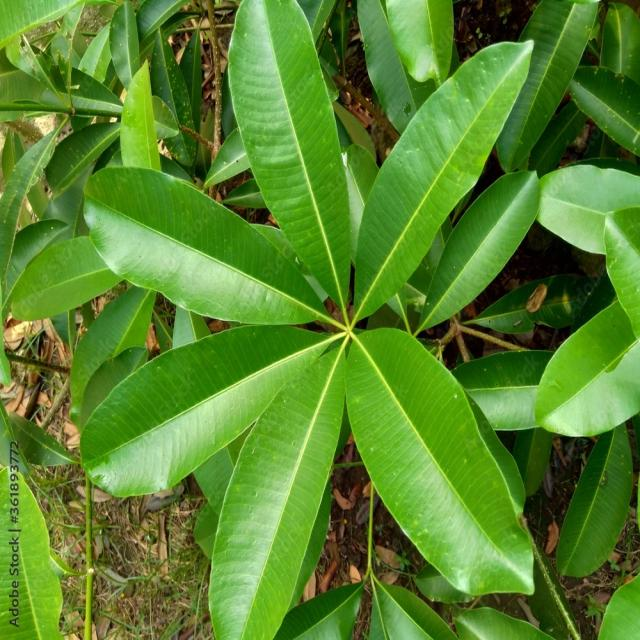Indian Pulai: (14, 0, 606, 632)
